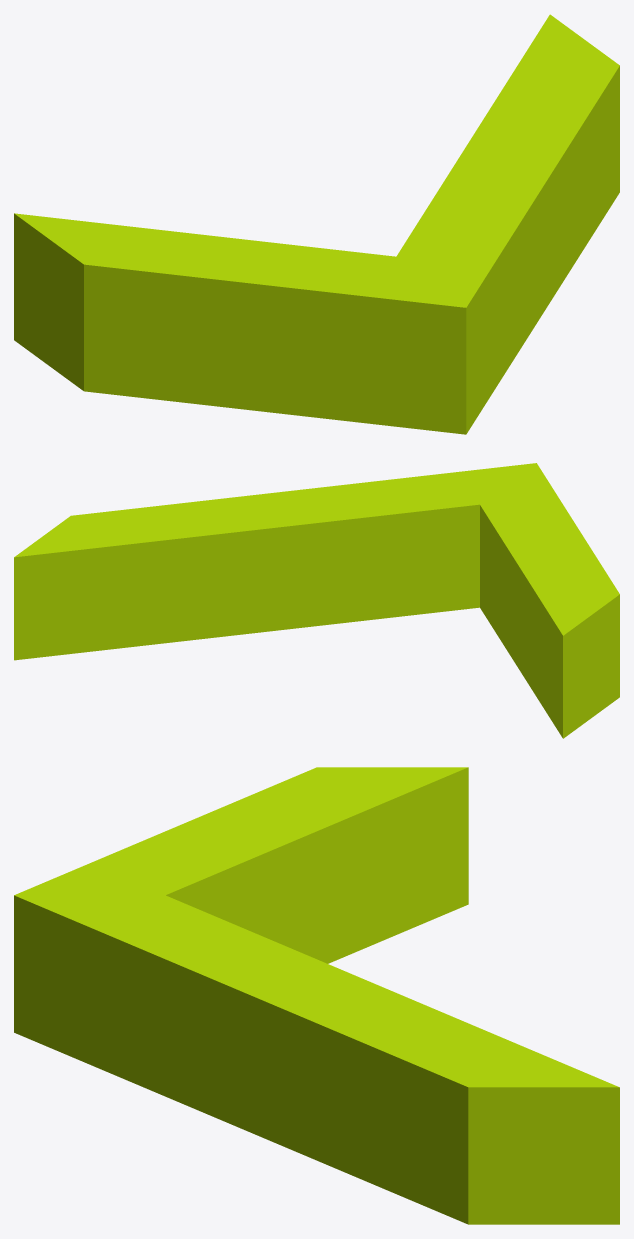
The picture shows the model from 3 angles, top to bottom: view 1: azimuth 30°, elevation 25°; view 2: azimuth 150°, elevation 25°; view 3: azimuth 270°, elevation 25°; orthographic projection. The views are drawn at different scales.
Parts seen in each view (by area): view 1: Cube.132; view 2: Cube.132; view 3: Cube.132.
Part boxes in pixels (left/top/right/bottom): Cube.132: left=14, top=14, right=619, bottom=434; Cube.132: left=14, top=463, right=619, bottom=738; Cube.132: left=14, top=767, right=619, bottom=1224.
Bounding box in the file's own units: 100 × 20 × 80.
